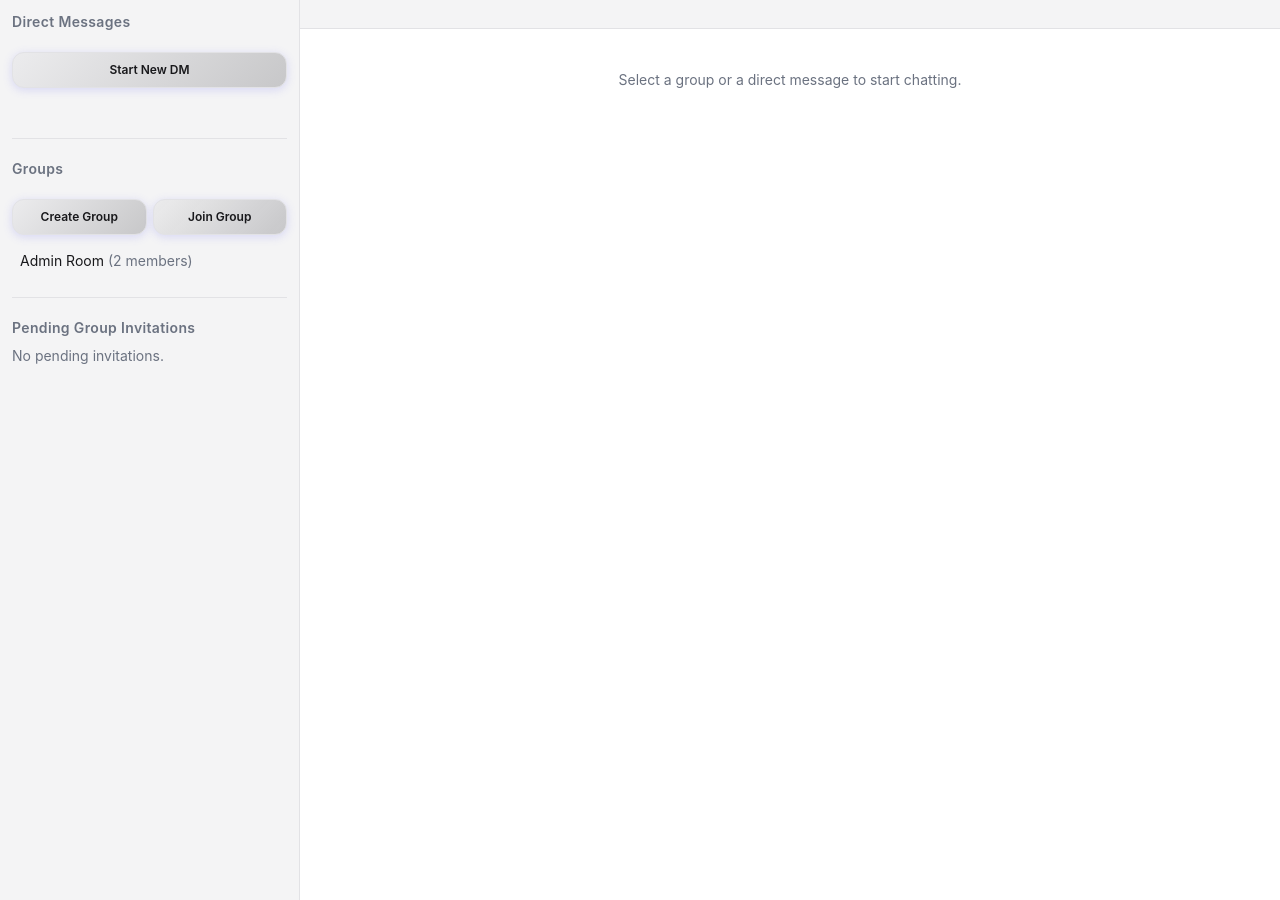
Test: Private Spaces (SCRUM-35 network wiring) › PrivateSpacesPage › shows real usernames as message senders in a group, not "User #<id>"
Click the text "Admin Room".
click(62, 260)  # box [20,252,104,269]
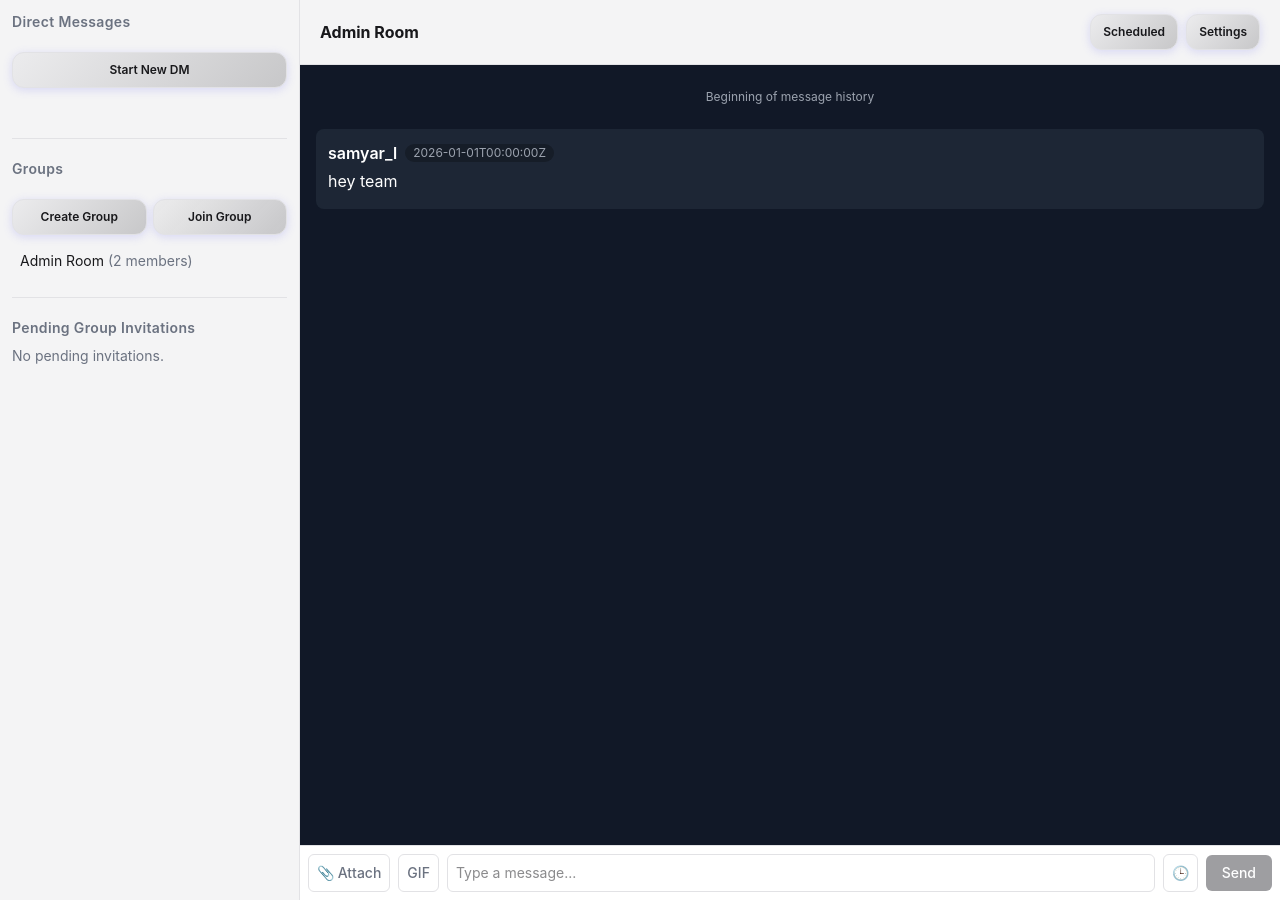
Result: the button "samyar_l" is shown at [328,141,397,165]
